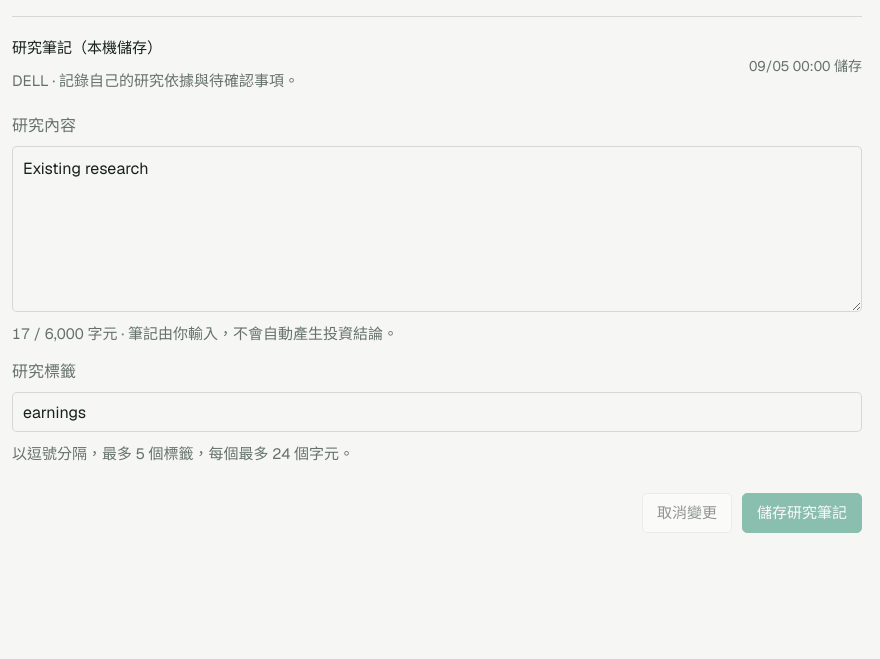
Test case: local research journal › preserves draft on 409 and reloads only after explicitly discarding it
Replace the text in the text box labelled "研究內容" with "My unsaved draft" at (437, 228), box [12,146,862,312]
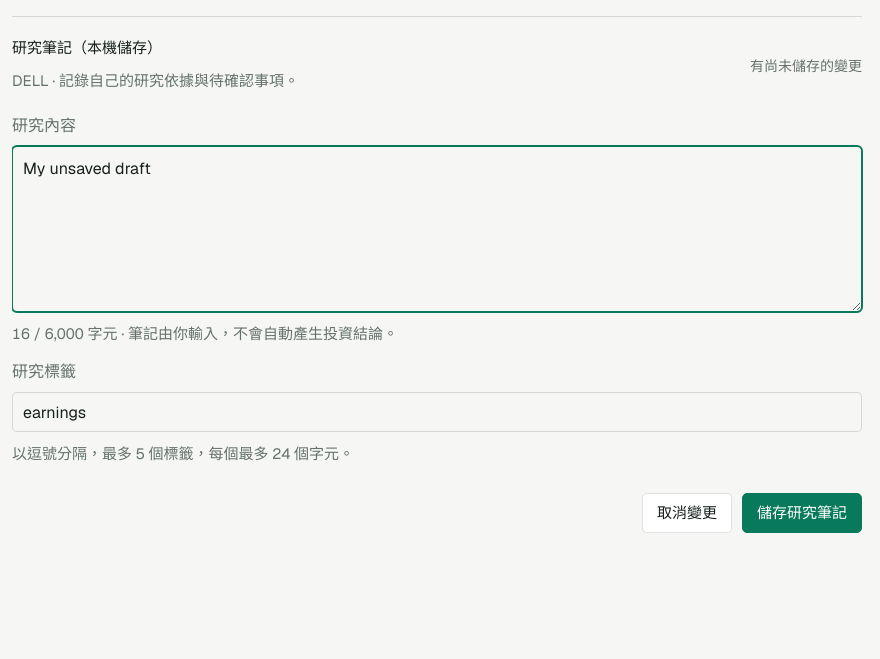
Click the button "儲存研究筆記".
click(802, 512)  # box [742,492,862,532]
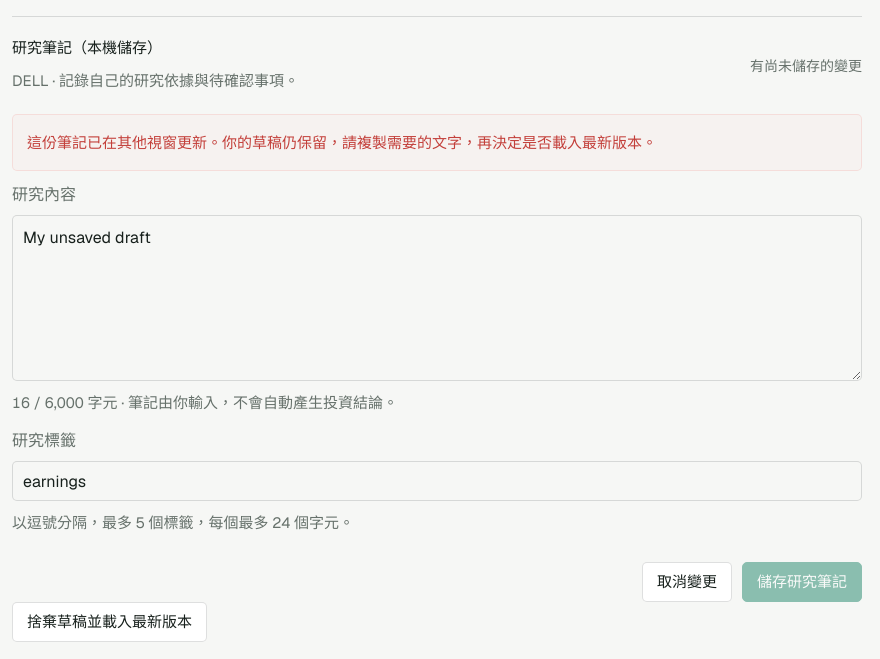
Click the button "捨棄草稿並載入最新版本".
click(110, 622)  # box [12,602,207,642]
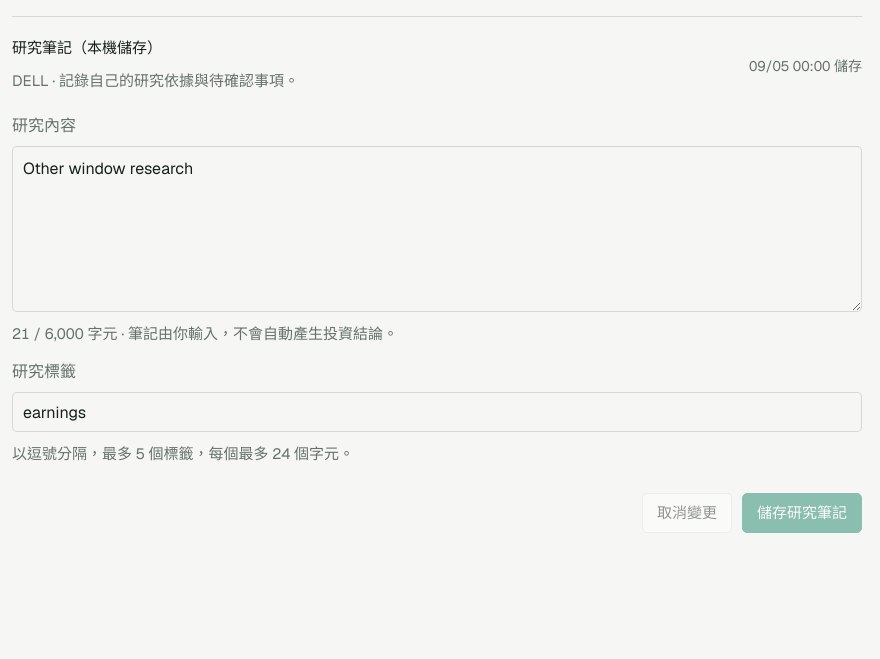
Result: the text box showing "Other window research" is shown at [12,146,862,312]
Result: the message "這份筆記已在其他視窗更新。你的草稿仍保留，請複製需要的文字，再決定是否載入最新版本。" is gone
